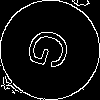G: (25, 25, 80, 76)
